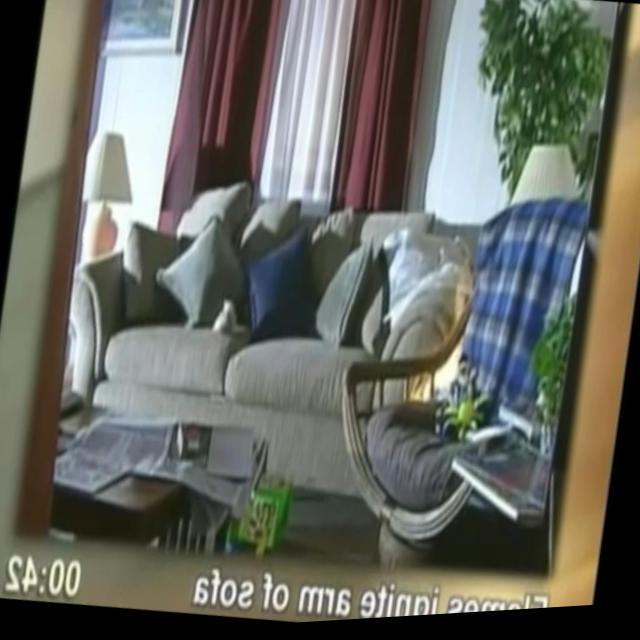fire: (414, 307, 471, 411)
